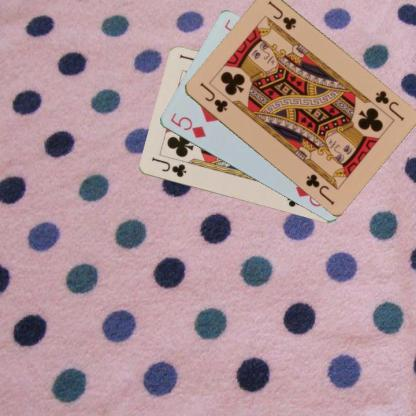5d: (167, 110, 207, 140)
Jc: (196, 80, 229, 114), (372, 88, 405, 122), (148, 155, 188, 179)
